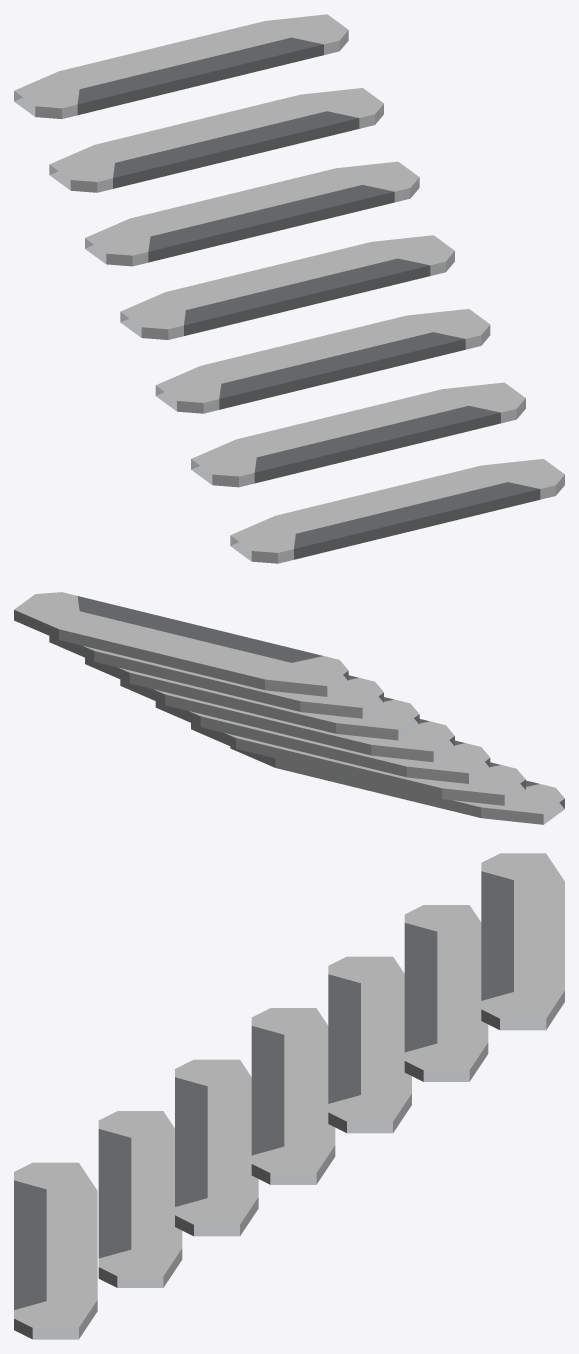
Rendered from Stair_type_A_001.fbx.
3 views of the same model, one above another, from view 1: azimuth 30°, elevation 25°; view 2: azimuth 150°, elevation 25°; view 3: azimuth 270°, elevation 25° (orthographic). The views are drawn at different scales.
Visible parts, largest first — view 1: Stair_type_A_001; view 2: Stair_type_A_001; view 3: Stair_type_A_001.
Part boxes in pixels (x1,y1,x2,y2): Stair_type_A_001: [14, 14, 564, 563]; Stair_type_A_001: [14, 592, 564, 824]; Stair_type_A_001: [14, 853, 564, 1339].
Size of the model in its own units: 152 by 214 by 138.
